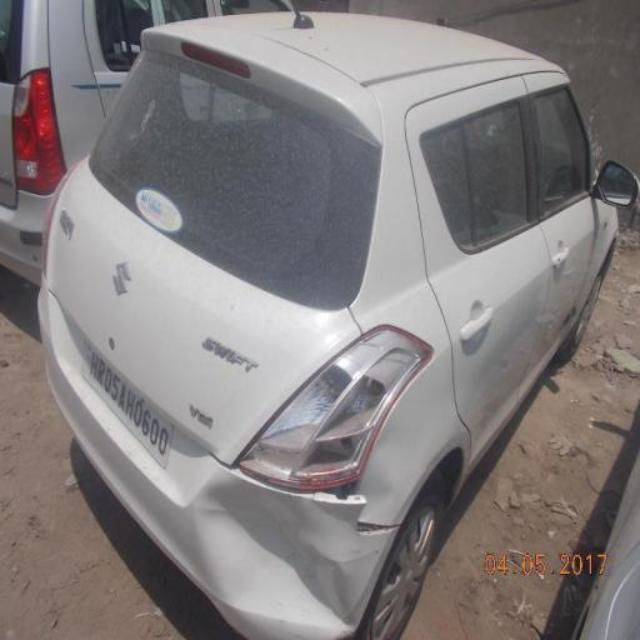dent: (195, 487, 378, 631)
dislocated part: (318, 480, 363, 506)
